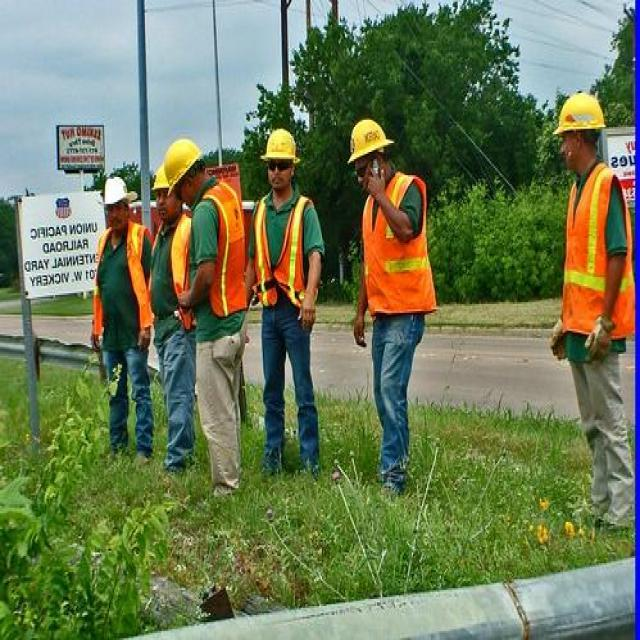reflective_jacket: (556, 160, 638, 347), (361, 171, 438, 321), (177, 184, 247, 321), (251, 189, 315, 307), (92, 220, 151, 340)
safety_helmet: (550, 87, 607, 141), (158, 130, 208, 191), (346, 112, 394, 166), (259, 121, 302, 166), (100, 171, 129, 209)
